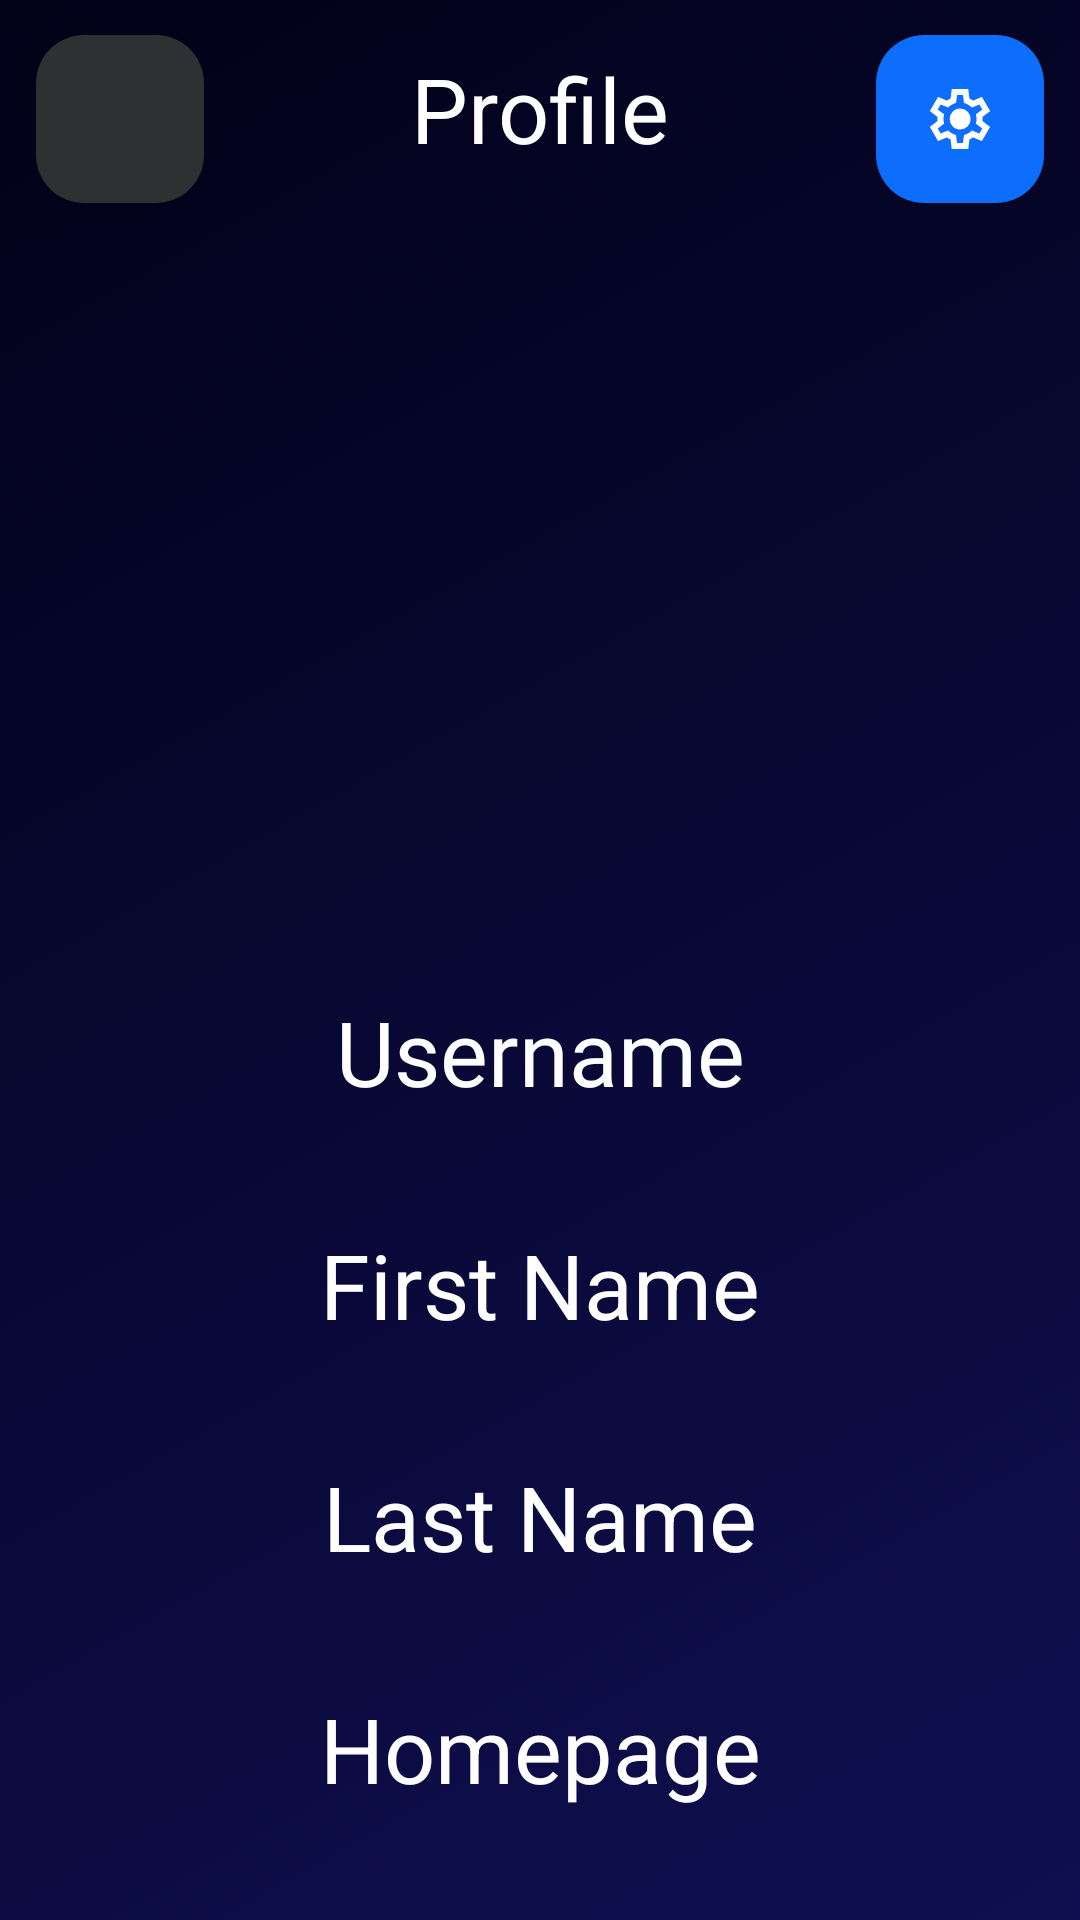

Point at icon controls on the screen. Image size 1080*1920, points as [x,y].
settings: [960,119]
